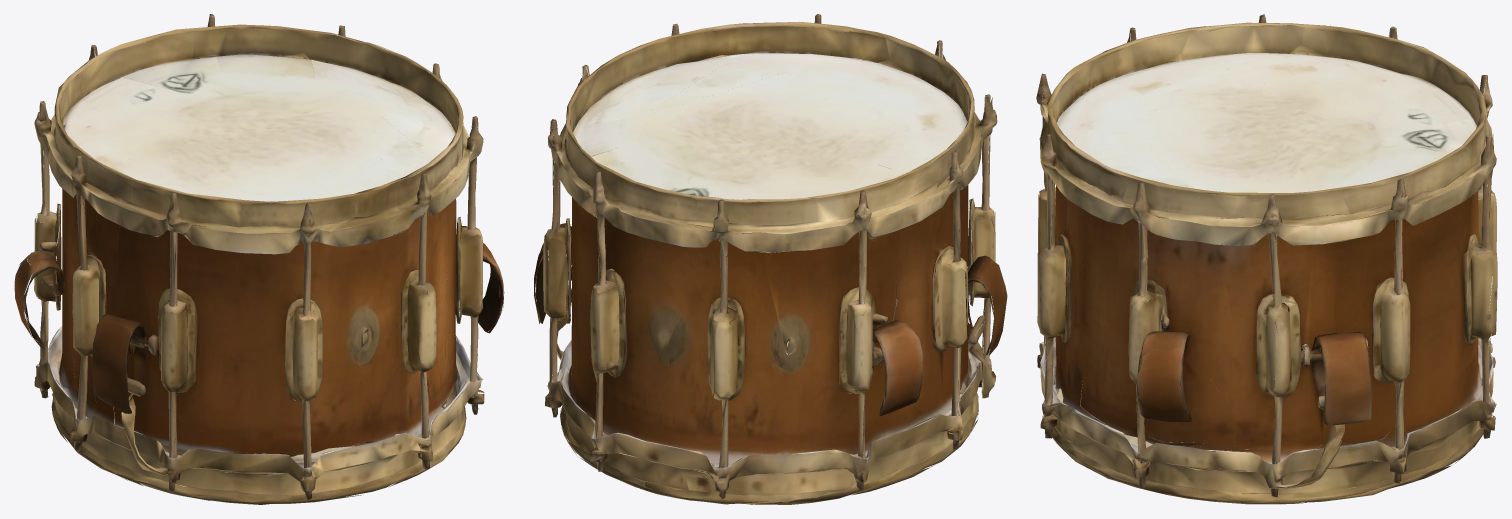
File: redoblante.glb
The picture shows the model from 3 angles, left to right: view 1: azimuth 30°, elevation 25°; view 2: azimuth 150°, elevation 25°; view 3: azimuth 270°, elevation 25°; orthographic projection. The views are drawn at different scales.
Parts seen in each view (by area): view 1: geometry_0; view 2: geometry_0; view 3: geometry_0.
Part boxes in pixels (bbox=[...]): geometry_0: bbox=[14, 14, 504, 504]; geometry_0: bbox=[534, 14, 1007, 504]; geometry_0: bbox=[1036, 14, 1497, 504].
Bounding box in the file's own units: 0.4011 × 0.3005 × 0.3999.
1 material, 1 textured.
